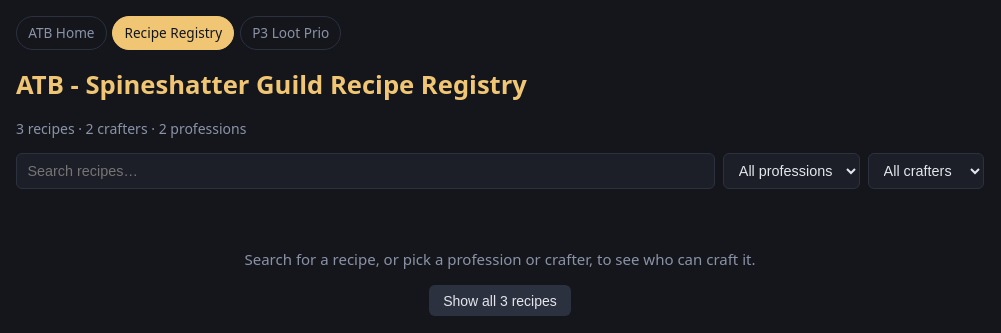
Test: App › filters by profession
Select "Jewelcrafting" in the dropdown named "Filter by profession" at x=792, y=171, box top-left (723, 153), bottom-right (860, 189)
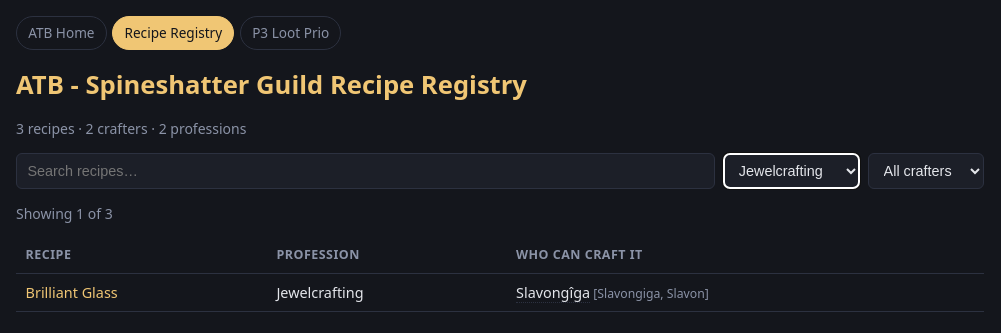
Now the link "Brilliant Glass" is shown, box top-left (26, 283), bottom-right (118, 302)
